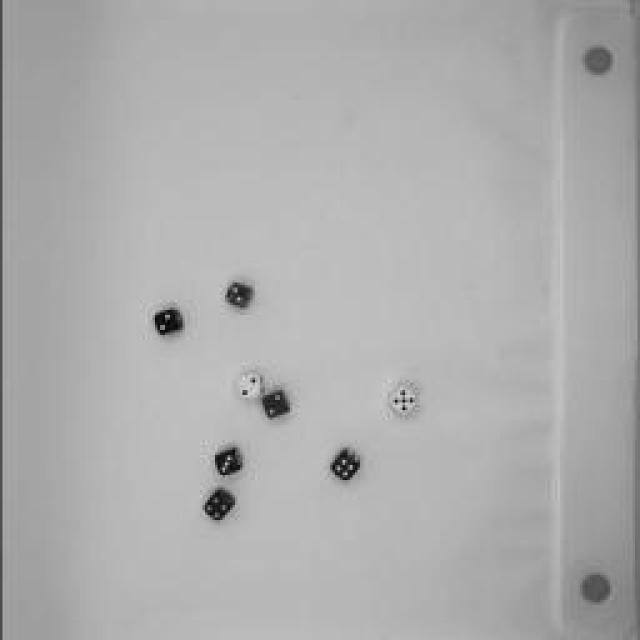dice_2: (149, 304, 186, 338), (221, 278, 254, 312), (259, 389, 291, 421), (236, 371, 264, 401)
dice_3: (209, 446, 246, 479)
dice_4: (199, 486, 236, 524), (329, 446, 361, 484)
dice_5: (385, 381, 420, 419)
